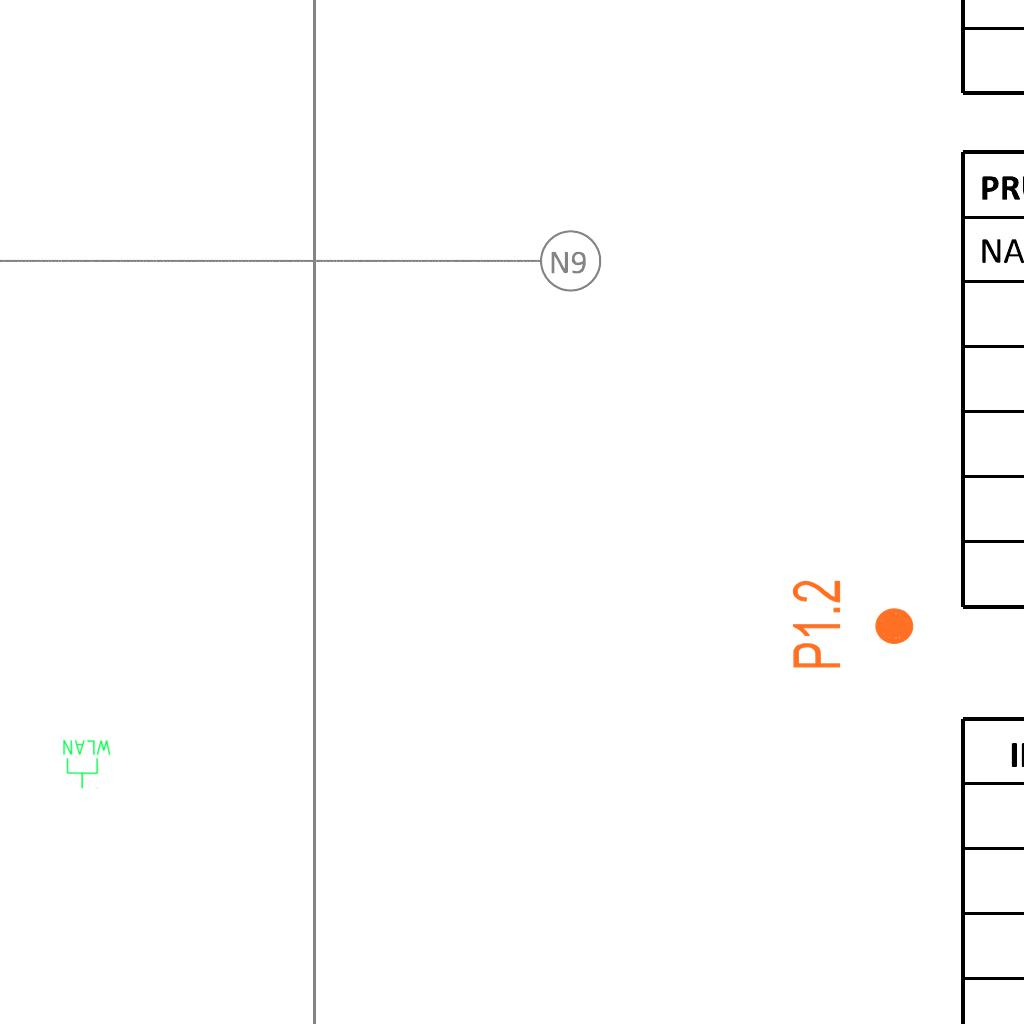Downlight_LED_Einbauleuchten_Flur: (789, 578, 917, 671)
WLAN: (61, 738, 113, 790)
